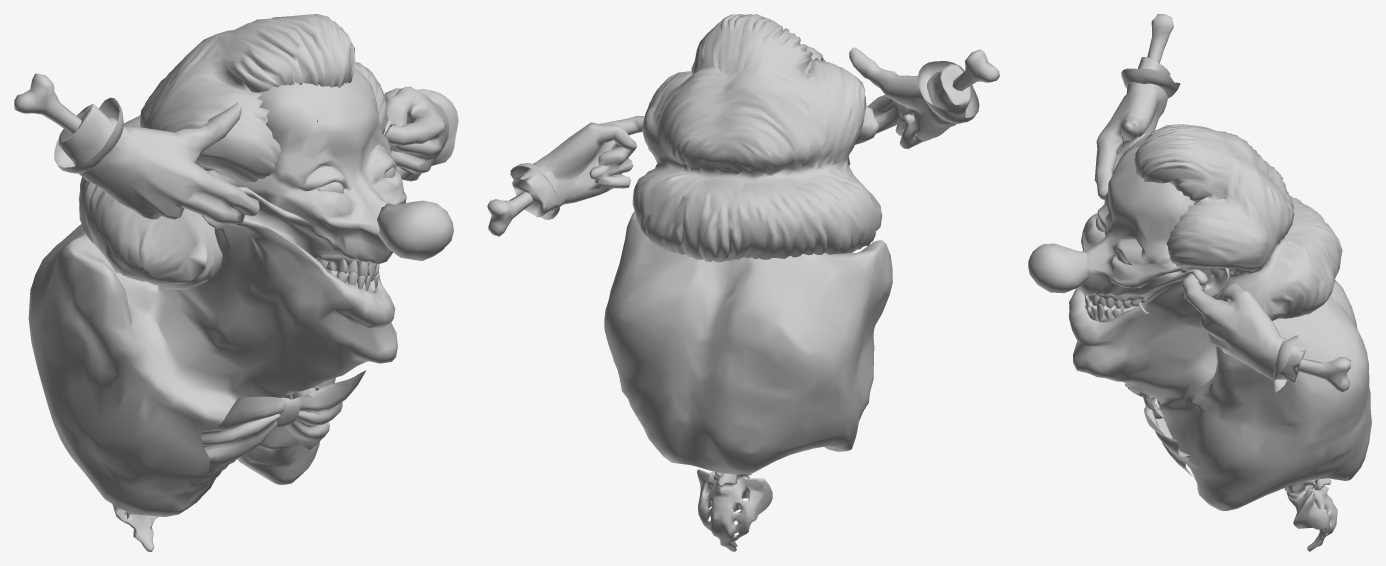
Rendered from payaso.obj.
3 renders of one model, left to right at view 1: azimuth 30°, elevation 25°; view 2: azimuth 150°, elevation 25°; view 3: azimuth 270°, elevation 25°, orthographic. The views are drawn at different scales.
Visible parts, largest first — view 1: Body_body_0, Hair_hair_0; view 2: Hair_hair_0, Body_body_0; view 3: Body_body_0, Hair_hair_0.
Part boxes in pixels (x1,y1,x2,y2): Body_body_0: [28, 68, 406, 516]; Hair_hair_0: [14, 14, 458, 551]; Hair_hair_0: [487, 14, 999, 551]; Body_body_0: [604, 44, 892, 474]; Body_body_0: [1069, 146, 1371, 511]; Hair_hair_0: [1028, 14, 1351, 551].
Size of the model in its own units: 476 by 521 by 353.
